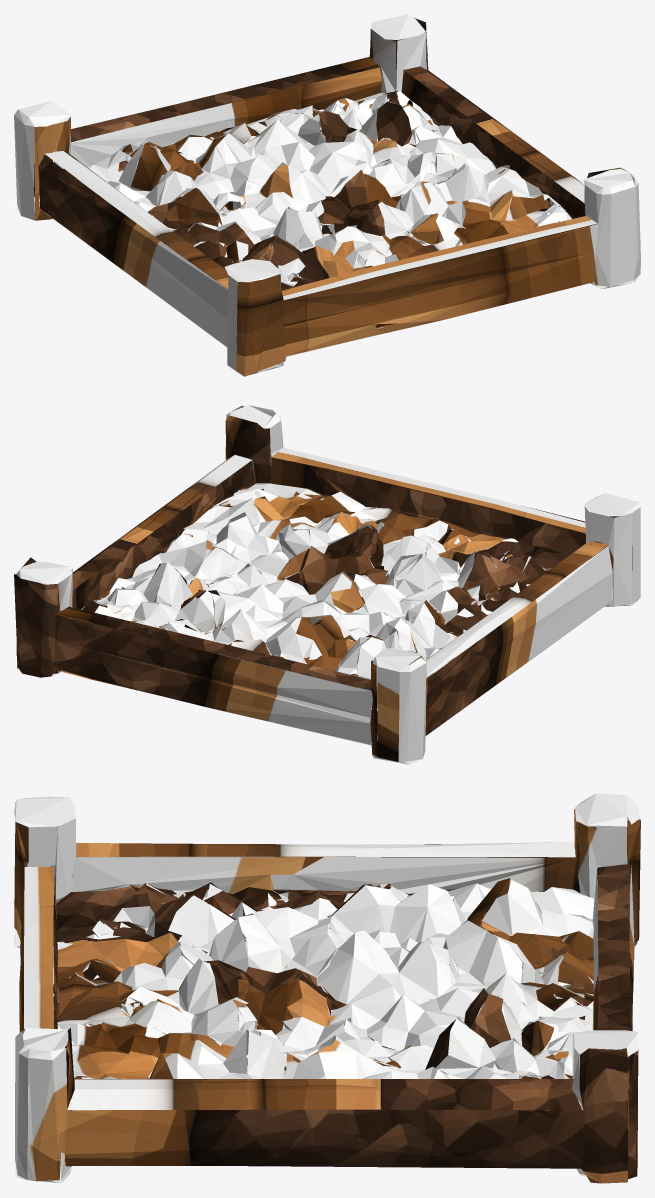
The model's file is GardenPlot.obj.
The picture shows the model from 3 angles, top to bottom: view 1: azimuth 30°, elevation 25°; view 2: azimuth 150°, elevation 25°; view 3: azimuth 270°, elevation 25°; orthographic projection. The views are drawn at different scales.
Visible parts, largest first — view 1: GardenPlot; view 2: GardenPlot; view 3: GardenPlot.
Part boxes in pixels (<box>): GardenPlot: <box>14,14,640,376</box>; GardenPlot: <box>14,405,640,764</box>; GardenPlot: <box>14,793,640,1183</box>.
Bounding box in the file's own units: 6.32 × 1.57 × 6.34.
